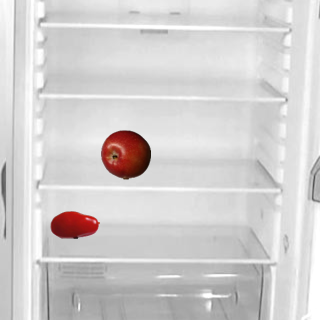Apple Braeburn: (100, 129, 150, 179)
Tomato 2: (49, 199, 99, 249)
